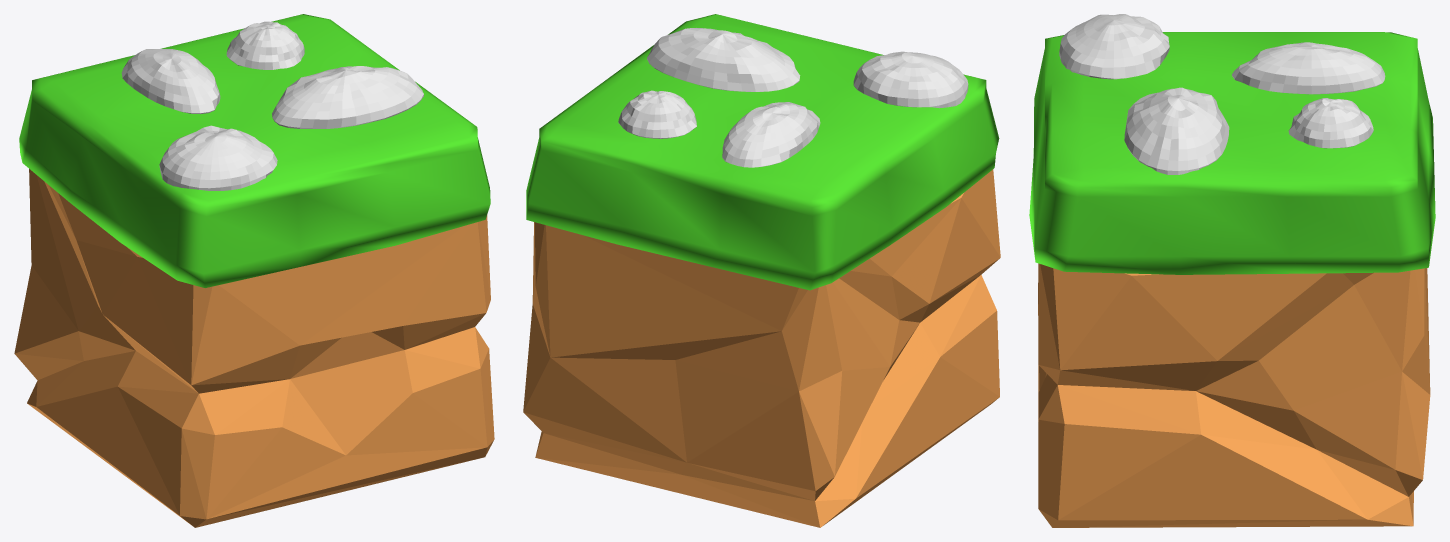
The model's file is TileHieloLvl1.fbx.
The picture shows the model from 3 angles, left to right: view 1: azimuth 30°, elevation 25°; view 2: azimuth 150°, elevation 25°; view 3: azimuth 270°, elevation 25°; orthographic projection. The views are drawn at different scales.
Visible parts, largest first — view 1: ThieloLVL1; view 2: ThieloLVL1; view 3: ThieloLVL1.
Part boxes in pixels (x1,y1,x2,y2): ThieloLVL1: [14, 14, 494, 527]; ThieloLVL1: [523, 14, 1000, 527]; ThieloLVL1: [1029, 14, 1435, 527].
Size of the model in its own units: 102 by 111 by 105.
